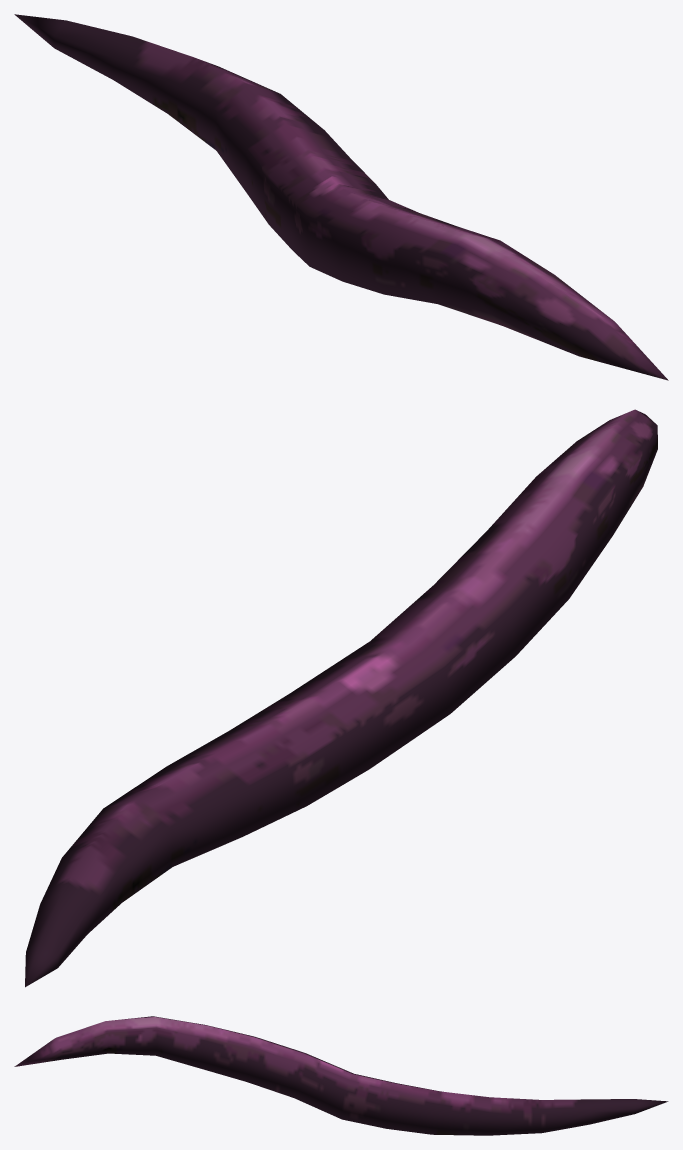
Rendered from cultist_slug_0d716706.glb.
3 renders of one model, top to bottom at view 1: azimuth 30°, elevation 25°; view 2: azimuth 150°, elevation 25°; view 3: azimuth 270°, elevation 25°, orthographic. The views are drawn at different scales.
Size of the model in its own units: 0.2944 by 0.273 by 1.87.
Materials: 1 (1 with a texture image).
